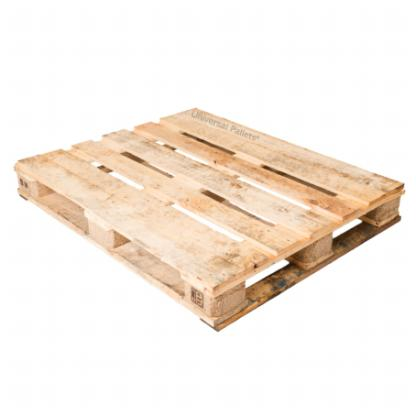BoxFace: (12, 103, 406, 334)
